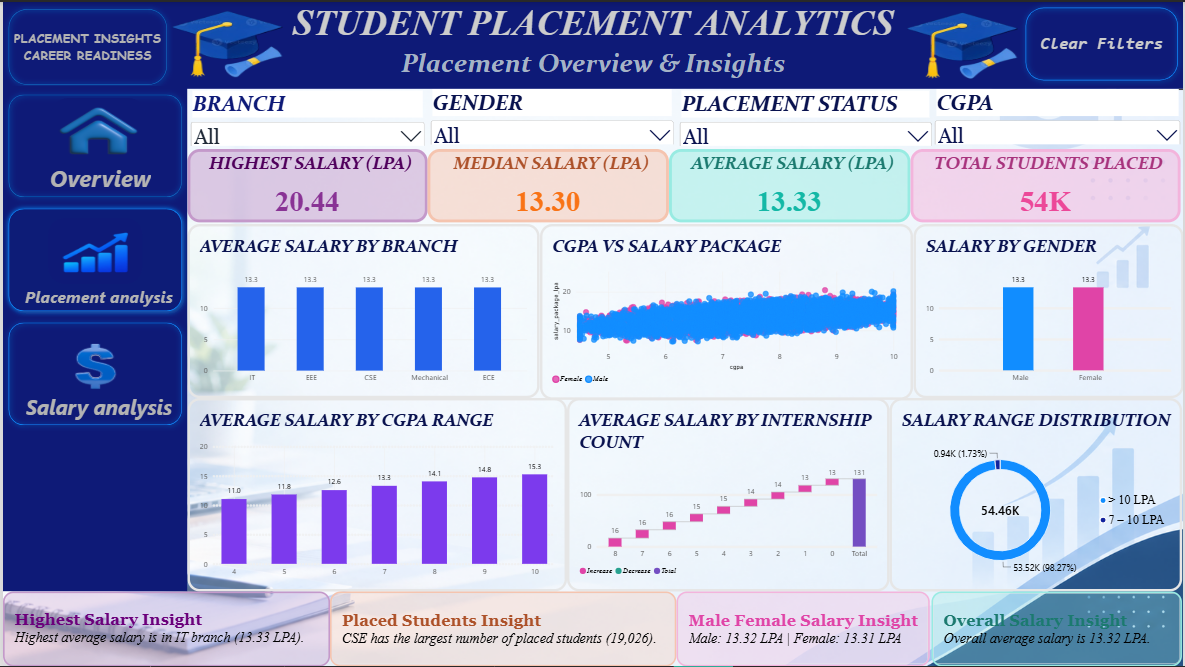

This screenshot's page, from the dashboard's own definition file:
{"tool":"powerbi","page":{"name":"Salary analysis","canvas":[1920,1080],"ordinal":2},"visuals":[{"type":"cardVisual","title":"HIGHEST SALARY (LPA)","fields":{"Data":["Full_dataset_student_placement_prediction_dataset_2026.Highest Salary (LPA)"]},"box":[300.1,239.1,390.4,119.6],"z":0},{"type":"textbox","title":"STUDENT PLACEMENT ANALYTICS","box":[0,0,1920,142.5],"z":1000},{"type":"textbox","title":"Placement Overview & Insights","box":[0,72.5,1920,70],"z":2000},{"type":"slicer","fields":{"Values":["Full_dataset_student_placement_prediction_dataset_2026.branch"]},"box":[300.1,143.9,390.4,90.3],"z":3000},{"type":"slicer","fields":{"Values":["Full_dataset_student_placement_prediction_dataset_2026.gender"]},"box":[690.5,141.5,405,90.3],"z":4000},{"type":"slicer","fields":{"Values":["Full_dataset_student_placement_prediction_dataset_2026.placement_status"]},"box":[1095.5,143.9,419.6,90.3],"z":5000},{"type":"cardVisual","title":"MEDIAN SALARY (LPA)","fields":{"Data":["Full_dataset_student_placement_prediction_dataset_2026.Median Salary (LPA)"]},"box":[690.5,239.1,392.8,119.6],"z":6000},{"type":"cardVisual","title":"AVERAGE SALARY (LPA)","fields":{"Data":["Full_dataset_student_placement_prediction_dataset_2026.Highest Avg Salary"]},"box":[1083.3,239.1,392.8,119.6],"z":7000},{"type":"cardVisual","title":"TOTAL STUDENTS PLACED","fields":{"Data":["Full_dataset_student_placement_prediction_dataset_2026.Placed Students"]},"box":[1476.1,239.1,439.2,119.6],"z":8000},{"type":"clusteredColumnChart","title":"AVERAGE SALARY BY BRANCH","fields":{"Category":["Full_dataset_student_placement_prediction_dataset_2026.branch"],"Y":["Full_dataset_student_placement_prediction_dataset_2026.Average Salary (Placed)"]},"box":[300.5,360,572.6,283.5],"z":9000},{"type":"clusteredColumnChart","title":"AVERAGE SALARY BY CGPA RANGE","fields":{"Category":["Full_dataset_student_placement_prediction_dataset_2026.cgpa (bins)"],"Y":["Full_dataset_student_placement_prediction_dataset_2026.Average Salary (Placed)"]},"box":[300.1,644.1,617.3,314.7],"z":10000},{"type":"waterfallChart","title":"AVERAGE SALARY BY INTERNSHIP COUNT","fields":{"Category":["Full_dataset_student_placement_prediction_dataset_2026.internships_count"],"Y":["Full_dataset_student_placement_prediction_dataset_2026.Average Salary (Placed)"]},"box":[917.4,644.1,524.6,314.7],"z":11000},{"type":"donutChart","title":"SALARY RANGE DISTRIBUTION","fields":{"Category":["Full_dataset_student_placement_prediction_dataset_2026.Salary Range"],"Y":["CountNonNull(Full_dataset_student_placement_prediction_dataset_2026.student_id)"]},"box":[1442.8,643.5,476.2,314.6],"z":12000},{"type":"clusteredColumnChart","title":"SALARY BY GENDER","fields":{"Category":["Full_dataset_student_placement_prediction_dataset_2026.gender"],"Y":["Full_dataset_student_placement_prediction_dataset_2026.Average Salary (Placed)"]},"box":[1481,361.1,439.2,283],"z":13000},{"type":"scatterChart","title":"CGPA VS SALARY PACKAGE","fields":{"Series":["Full_dataset_student_placement_prediction_dataset_2026.gender"],"X":["Full_dataset_student_placement_prediction_dataset_2026.cgpa"],"Y":["Full_dataset_student_placement_prediction_dataset_2026.salary_package_lpa"]},"box":[873.5,361.1,606.6,286.3],"z":14000},{"type":"cardVisual","fields":{"Data":["Full_dataset_student_placement_prediction_dataset_2026.Highest Salary Insight"]},"box":[0,958.8,531.9,122],"z":15000},{"type":"cardVisual","fields":{"Data":["Full_dataset_student_placement_prediction_dataset_2026.Placed Students Insight"]},"box":[531.9,958.8,563.6,122],"z":16000},{"type":"cardVisual","fields":{"Data":["Full_dataset_student_placement_prediction_dataset_2026.Male Female Salary Insight"]},"box":[1095.5,958.8,412.3,122],"z":17000},{"type":"cardVisual","fields":{"Data":["Full_dataset_student_placement_prediction_dataset_2026.Overall Salary Insight"]},"box":[1510.2,958.8,407.4,122],"z":18000},{"type":"slicer","fields":{"Values":["Full_dataset_student_placement_prediction_dataset_2026.cgpa (bins)"]},"box":[1510.2,141.5,409.9,90.3],"z":19000},{"type":"actionButton","box":[263.5,0,202.5,136.6],"z":20000},{"type":"actionButton","box":[1459,2.4,202.5,136.6],"z":21000},{"type":"shape","box":[0,2.4,275.7,141.5],"z":22000},{"type":"actionButton","box":[1654.2,0,265.9,136.6],"z":23000},{"type":"shape","box":[0,136.6,300.1,822.2],"z":24000},{"type":"actionButton","box":[0,141.5,300,185],"z":25000},{"type":"actionButton","box":[0,326.9,300,185],"z":26000},{"type":"actionButton","box":[0,512.4,300,185],"z":27000},{"type":"actionButton","box":[78.1,156.1,153.7,107.4],"z":28000},{"type":"actionButton","box":[73.2,351.3,153.7,107.4],"z":29000},{"type":"actionButton","box":[73.2,539.2,153.7,107.4],"z":30000}]}

Visuals, with their boxes in screenshot pixels (x1, y1, x2, y2), scaled from the page's 1920x1080 canvas onto the 1185x667 screenshot:
"HIGHEST SALARY (LPA)" cardVisual: 185,148,426,222
"STUDENT PLACEMENT ANALYTICS" textbox: 0,0,1184,88
"Placement Overview & Insights" textbox: 0,45,1184,88
slicer - Full_dataset_student_placement_prediction_dataset_2026.branch: 185,89,426,145
slicer - Full_dataset_student_placement_prediction_dataset_2026.gender: 426,87,676,143
slicer - Full_dataset_student_placement_prediction_dataset_2026.placement_status: 676,89,935,145
"MEDIAN SALARY (LPA)" cardVisual: 426,148,669,222
"AVERAGE SALARY (LPA)" cardVisual: 669,148,911,222
"TOTAL STUDENTS PLACED" cardVisual: 911,148,1182,222
"AVERAGE SALARY BY BRANCH" clusteredColumnChart: 185,222,539,397
"AVERAGE SALARY BY CGPA RANGE" clusteredColumnChart: 185,398,566,592
"AVERAGE SALARY BY INTERNSHIP COUNT" waterfallChart: 566,398,890,592
"SALARY RANGE DISTRIBUTION" donutChart: 890,397,1184,592
"SALARY BY GENDER" clusteredColumnChart: 914,223,1184,398
"CGPA VS SALARY PACKAGE" scatterChart: 539,223,913,400
cardVisual - Full_dataset_student_placement_prediction_dataset_2026.Highest Salary Insight: 0,592,328,666
cardVisual - Full_dataset_student_placement_prediction_dataset_2026.Placed Students Insight: 328,592,676,666
cardVisual - Full_dataset_student_placement_prediction_dataset_2026.Male Female Salary Insight: 676,592,931,666
cardVisual - Full_dataset_student_placement_prediction_dataset_2026.Overall Salary Insight: 932,592,1184,666
slicer - Full_dataset_student_placement_prediction_dataset_2026.cgpa (bins): 932,87,1184,143
actionButton: 163,0,288,84
actionButton: 900,1,1025,86
shape: 0,1,170,89
actionButton: 1021,0,1184,84
shape: 0,84,185,592
actionButton: 0,87,185,202
actionButton: 0,202,185,316
actionButton: 0,316,185,431
actionButton: 48,96,143,163
actionButton: 45,217,140,283
actionButton: 45,333,140,399
